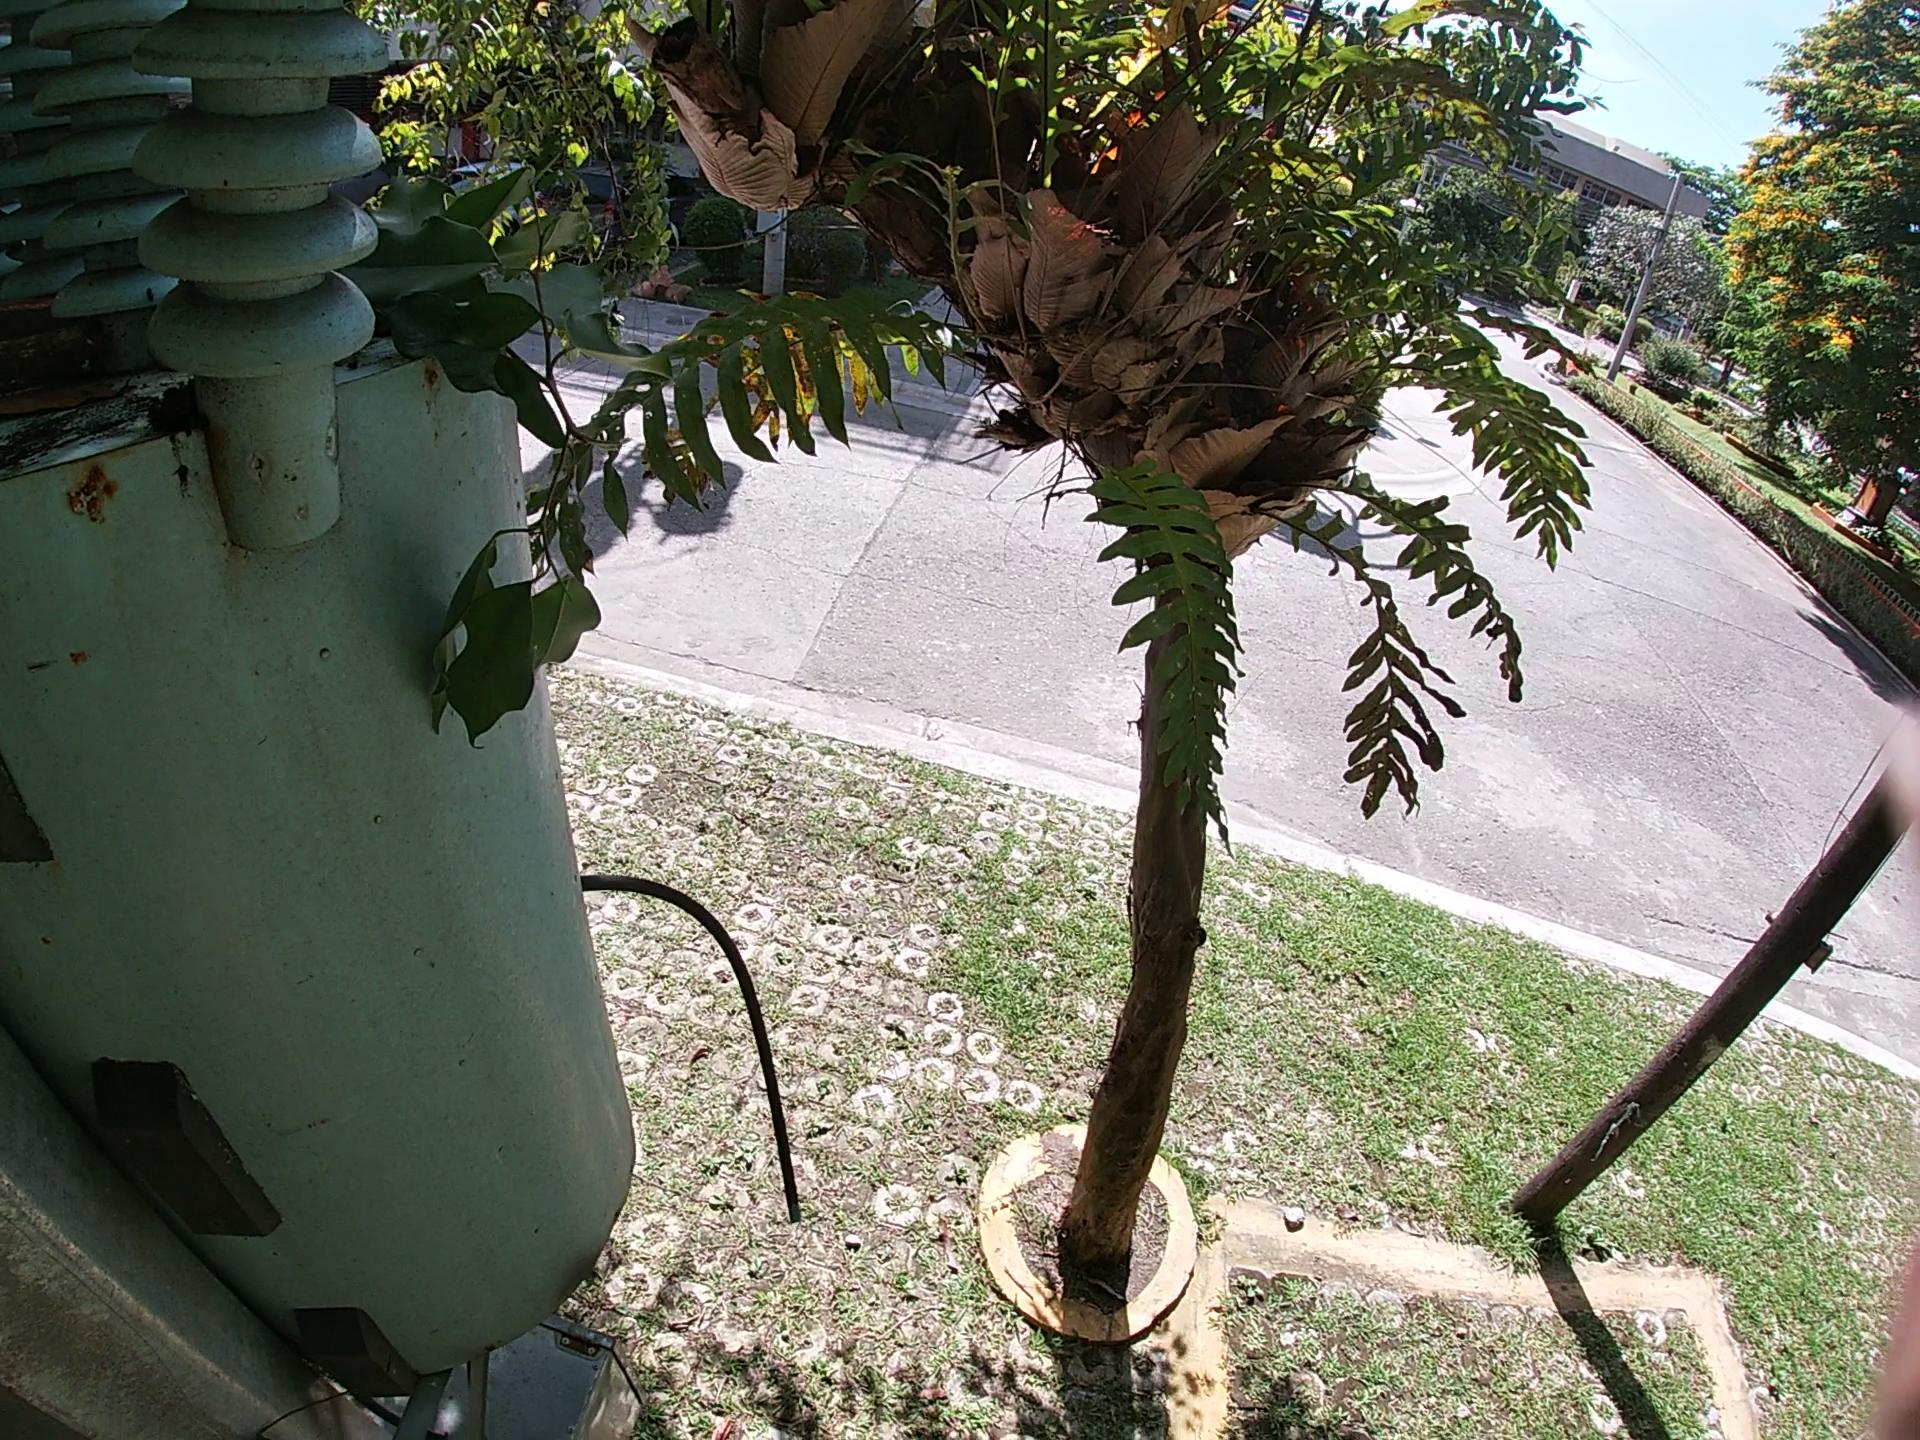branch with leaves: (308, 150, 636, 758)
leaf: (3, 377, 130, 411)
mahogany fruit: (2, 275, 73, 318)
tree branch: (2, 330, 103, 346)
